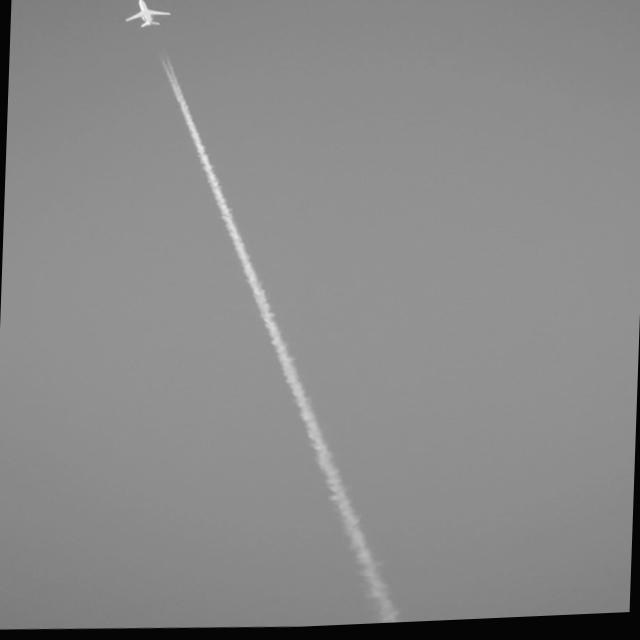aeroplane: (122, 0, 174, 31)
